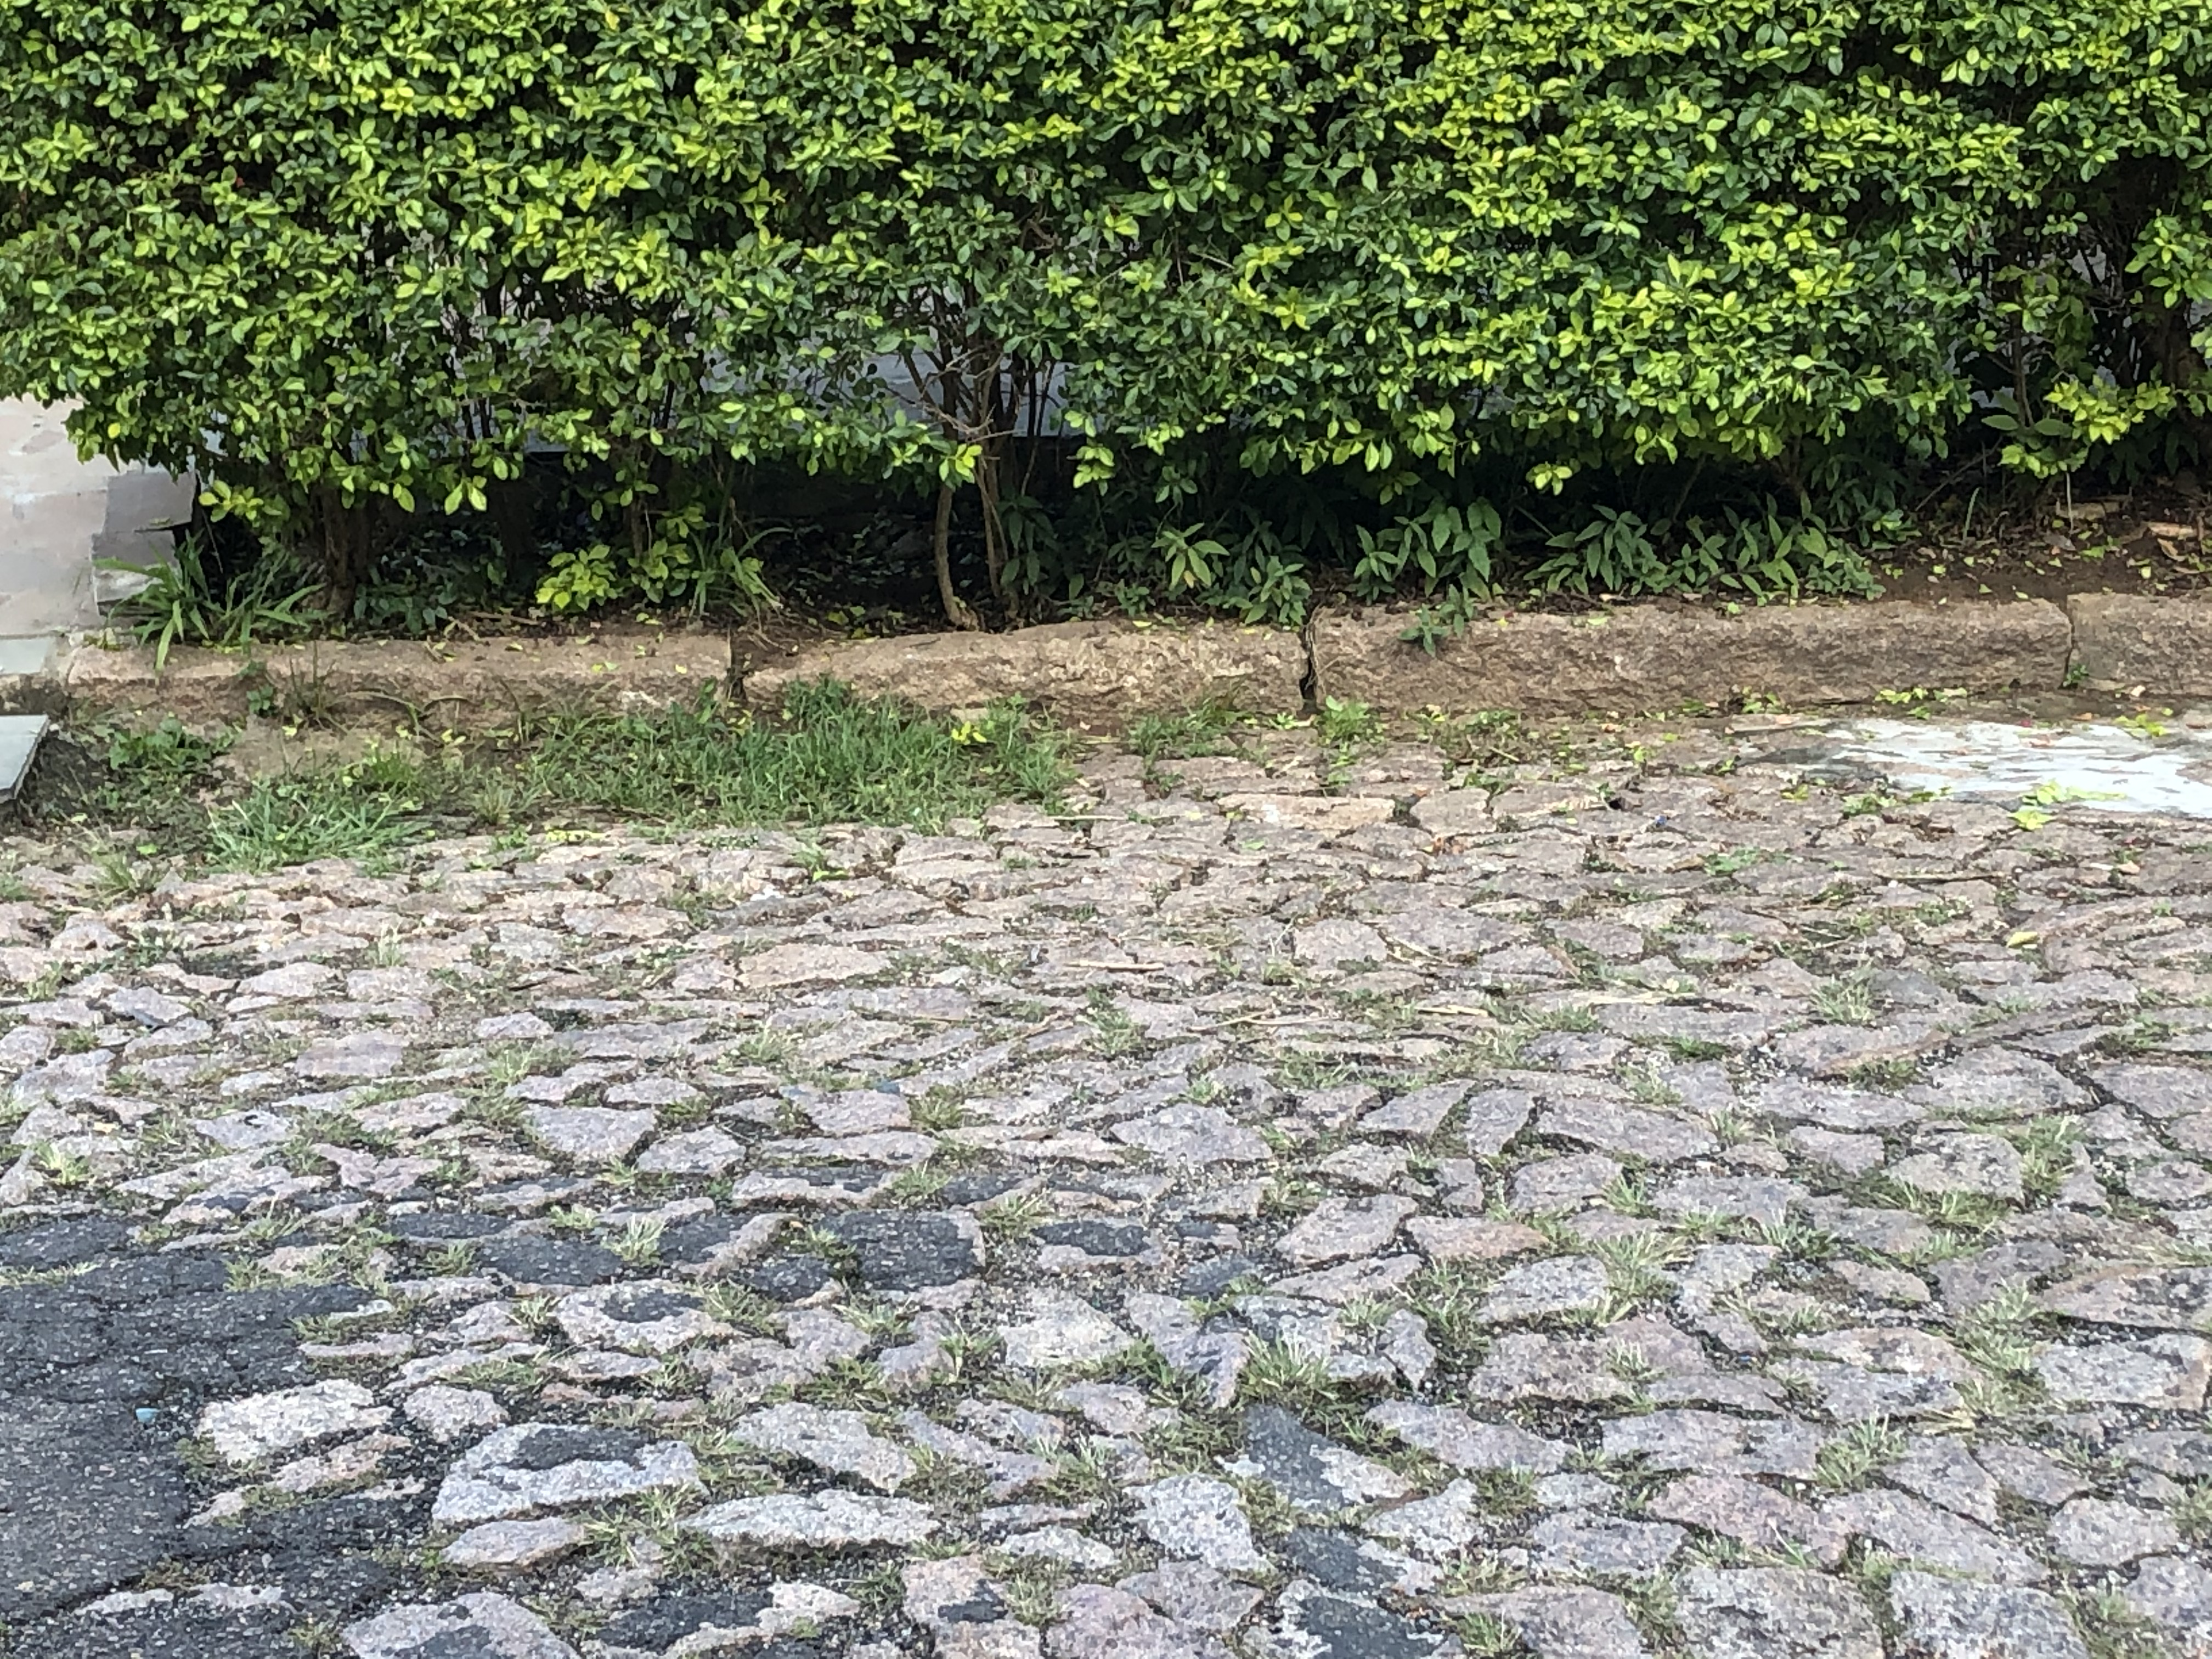vag13: (9, 71, 2212, 913)
